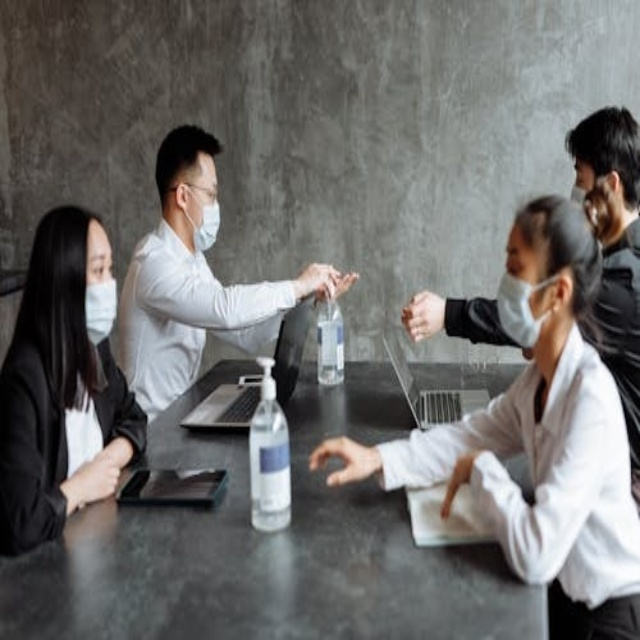Gafas: (173, 182, 219, 202)
Mascara: (495, 270, 561, 349), (84, 277, 119, 344), (184, 189, 220, 252), (569, 180, 589, 210)
Sin_gafas: (87, 254, 113, 275)
Sin_guantes: (429, 442, 489, 532), (306, 432, 381, 488), (67, 447, 125, 512), (398, 289, 446, 343), (315, 268, 360, 303)
Sin_mascara: (521, 345, 534, 361)
